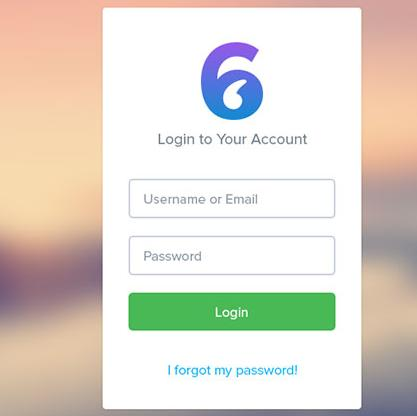button: (128, 292, 336, 331)
field: (129, 178, 336, 219), (129, 236, 336, 275)
